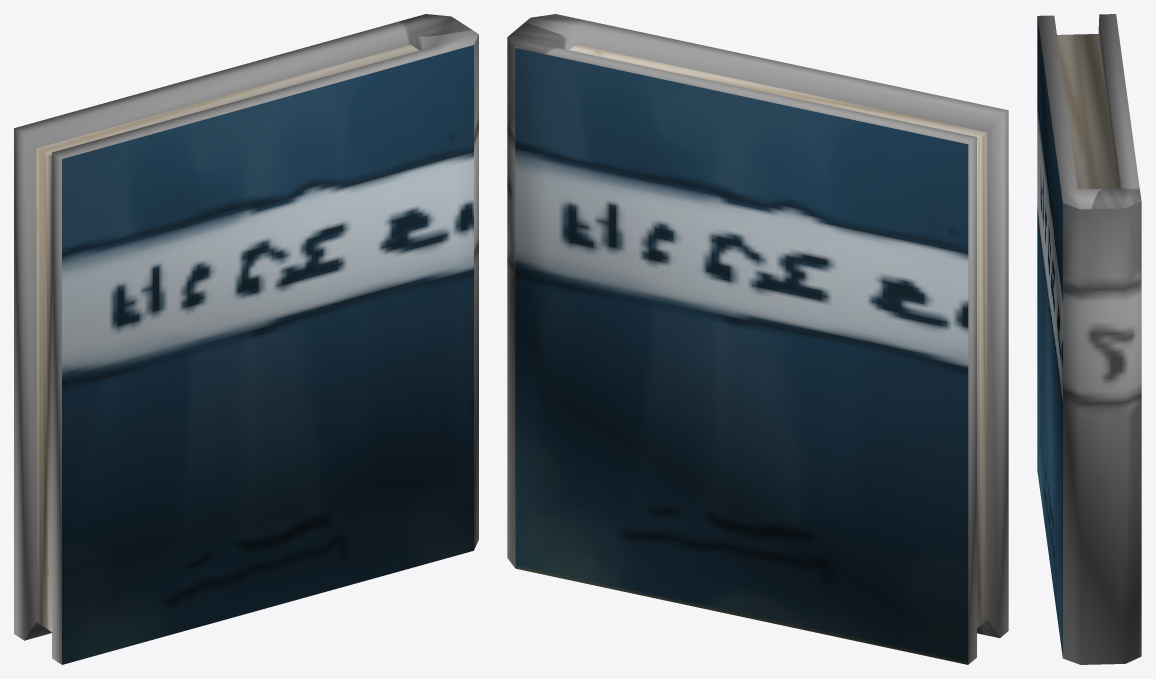
File: Livro1.fbx
The picture shows the model from 3 angles, left to right: view 1: azimuth 30°, elevation 25°; view 2: azimuth 150°, elevation 25°; view 3: azimuth 270°, elevation 25°; orthographic projection. The views are drawn at different scales.
Visible parts, largest first — view 1: Livro1; view 2: Livro1; view 3: Livro1.
Part boxes in pixels (x1,y1,x2,y2): Livro1: (14, 14, 478, 664); Livro1: (507, 14, 1008, 664); Livro1: (1037, 14, 1141, 664).
Size of the model in its own units: 50 by 11.24 by 54.32.
